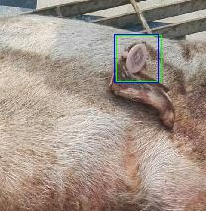text: (116, 35, 161, 81)
